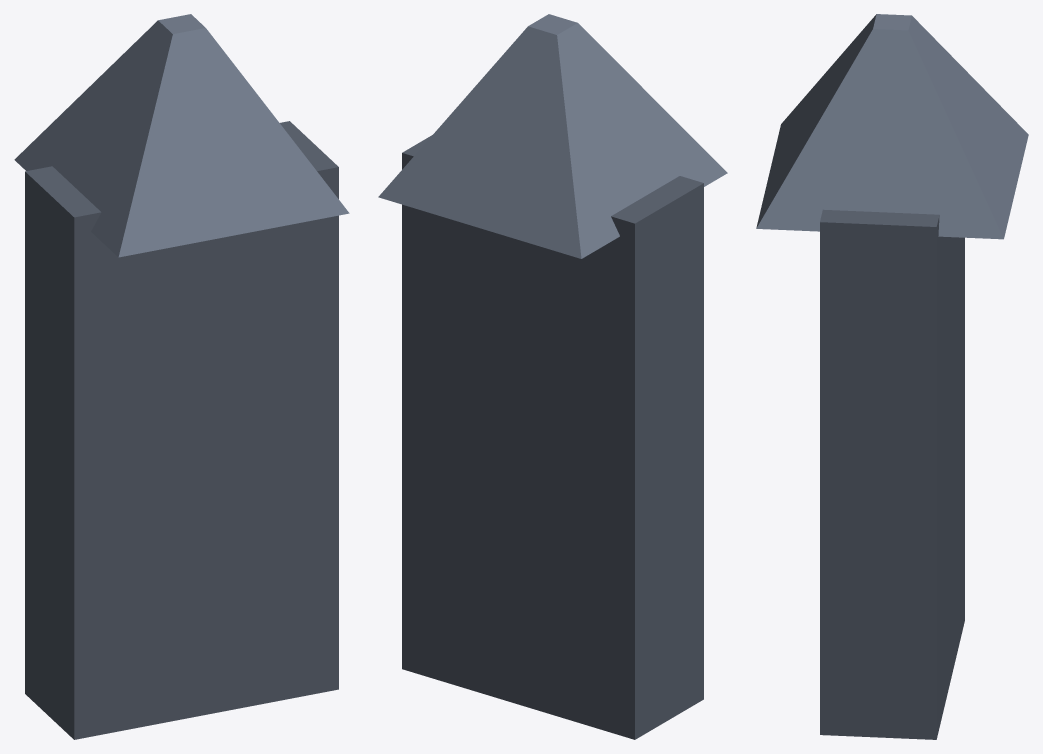
Rendered from EXT_GraveMarker_00.glb.
3 renders of one model, left to right at view 1: azimuth 30°, elevation 25°; view 2: azimuth 150°, elevation 25°; view 3: azimuth 270°, elevation 25°, orthographic.
Parts seen in each view (by area): view 1: EXT_GraveMarker_00; view 2: EXT_GraveMarker_00; view 3: EXT_GraveMarker_00.
Part boxes in pixels (x1,y1,x2,y2): EXT_GraveMarker_00: (14, 14, 349, 739); EXT_GraveMarker_00: (378, 14, 727, 739); EXT_GraveMarker_00: (756, 14, 1028, 739).
Bounding box in the file's own units: 0.6341 × 1.55 × 0.5853.
